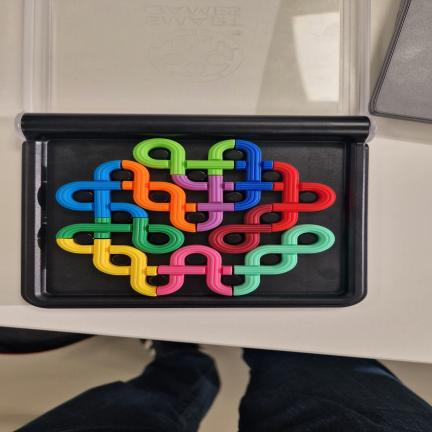A_Yellow: (57, 239, 157, 296)
B_SkyBlue: (56, 161, 148, 217)
C_DarkBlue: (235, 140, 273, 210)
D_Green: (57, 218, 184, 253)
E_Red: (271, 162, 335, 231)
F_Teal: (234, 225, 334, 295)
G_Pink: (157, 245, 232, 295)
H_Purple: (172, 175, 234, 231)
I_Orange: (122, 160, 196, 232)
J_DarkRed: (209, 204, 272, 253)
K_YellowGreen: (133, 139, 235, 175)
board: (21, 113, 370, 308)
hinge: (15, 114, 380, 142)
pin: (222, 274, 244, 286), (74, 190, 94, 203), (74, 232, 94, 245), (149, 148, 170, 160), (185, 253, 206, 265), (112, 169, 132, 181), (149, 233, 169, 245), (298, 233, 318, 245), (111, 254, 131, 266), (148, 275, 169, 286), (187, 171, 207, 182), (186, 212, 206, 223), (112, 212, 132, 223), (260, 254, 280, 265), (224, 150, 243, 161), (150, 191, 169, 202), (298, 192, 317, 203), (223, 233, 242, 244), (262, 171, 280, 182), (261, 212, 279, 223), (225, 192, 242, 203)
